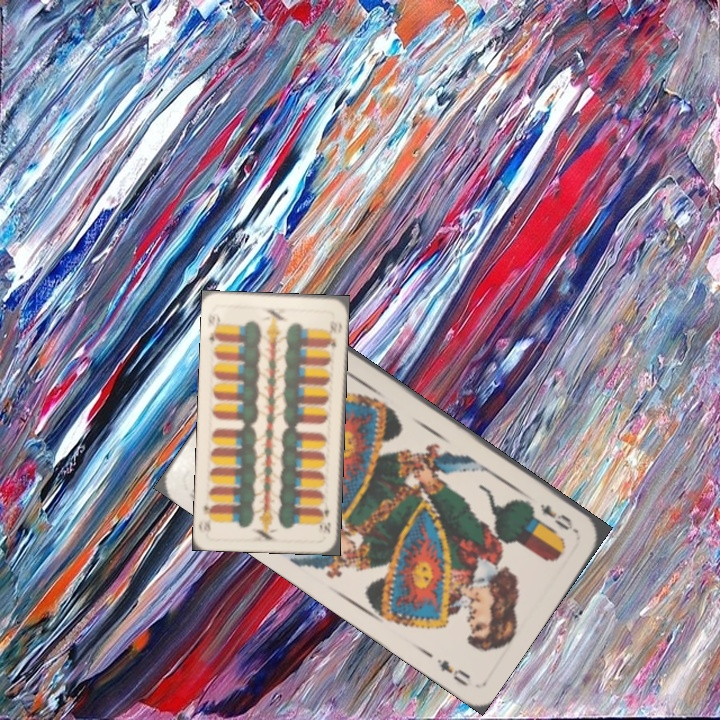E10: (203, 309, 223, 346), (317, 498, 333, 536)
EO: (536, 499, 579, 535)
